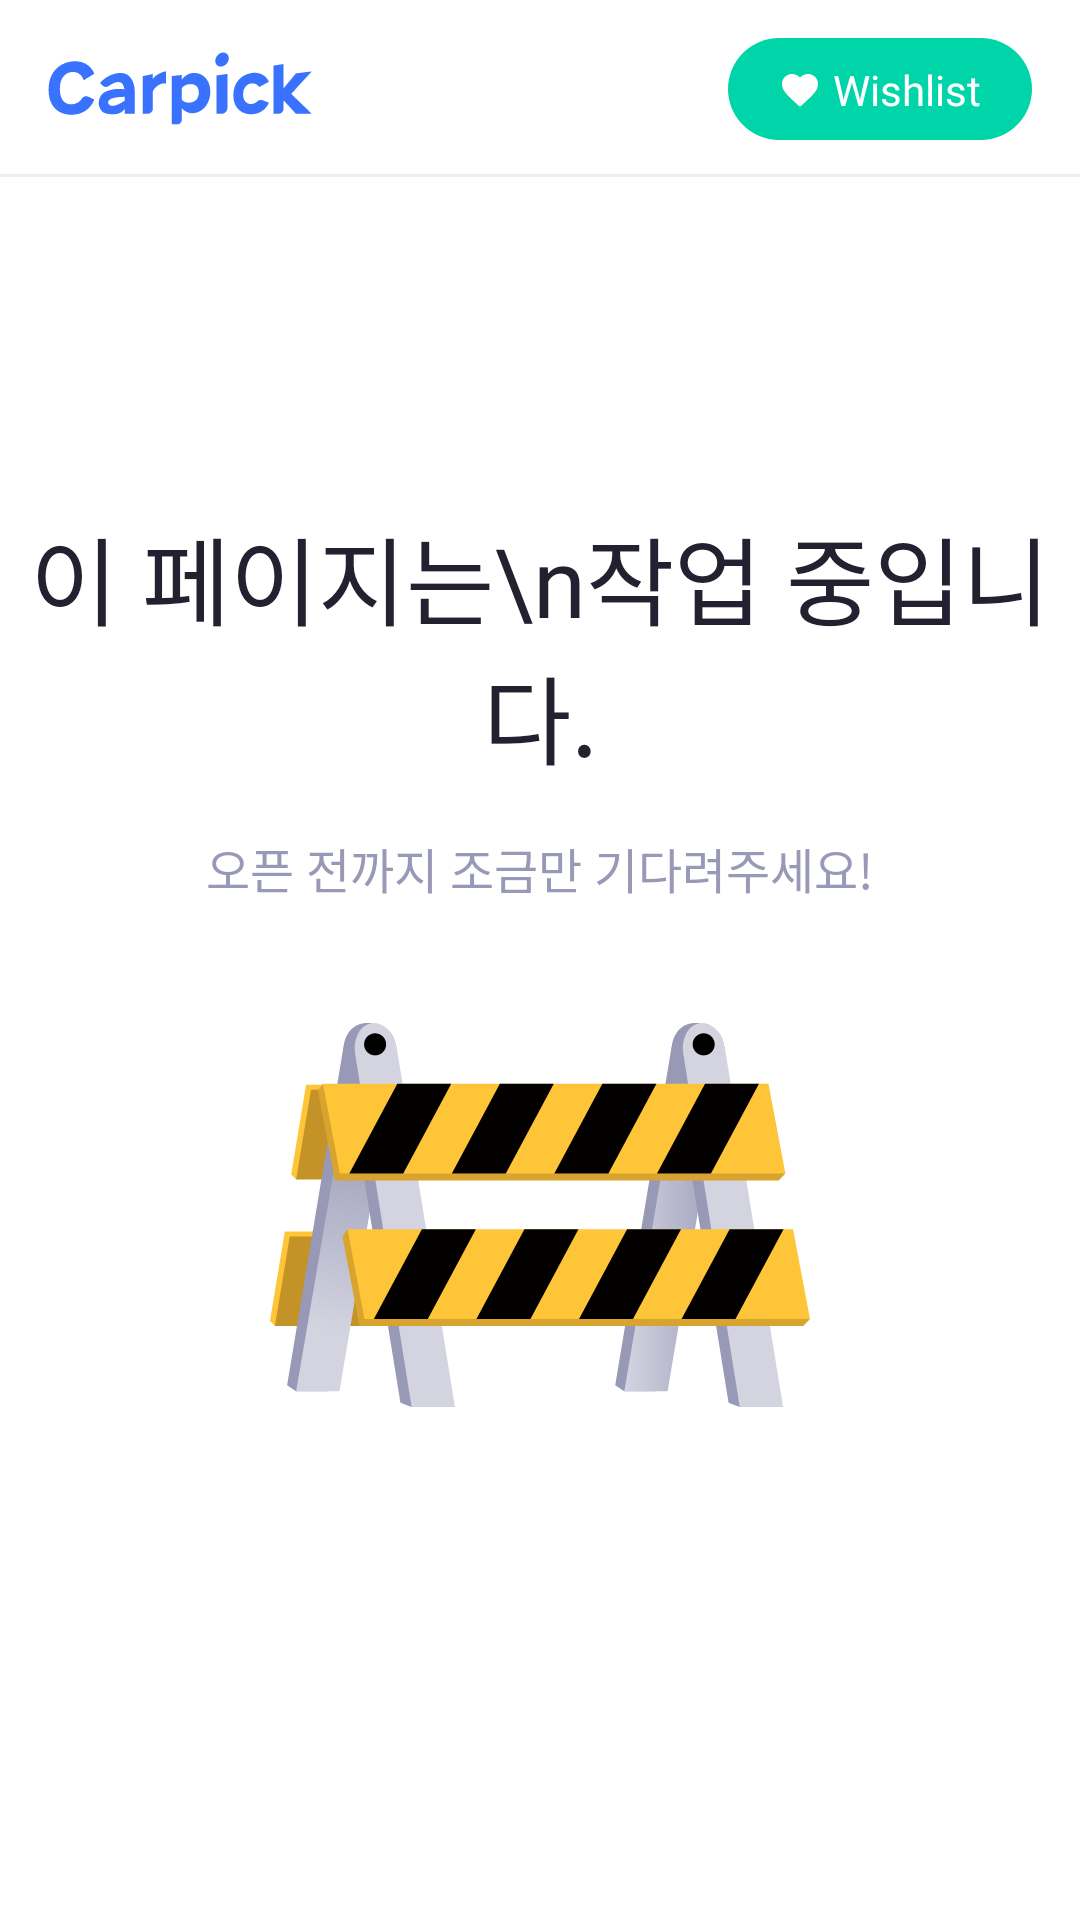

Icon click points for this 1080w x 1920h phone screenshot, format (x=x, y=y):
heart: (x=800, y=90)
